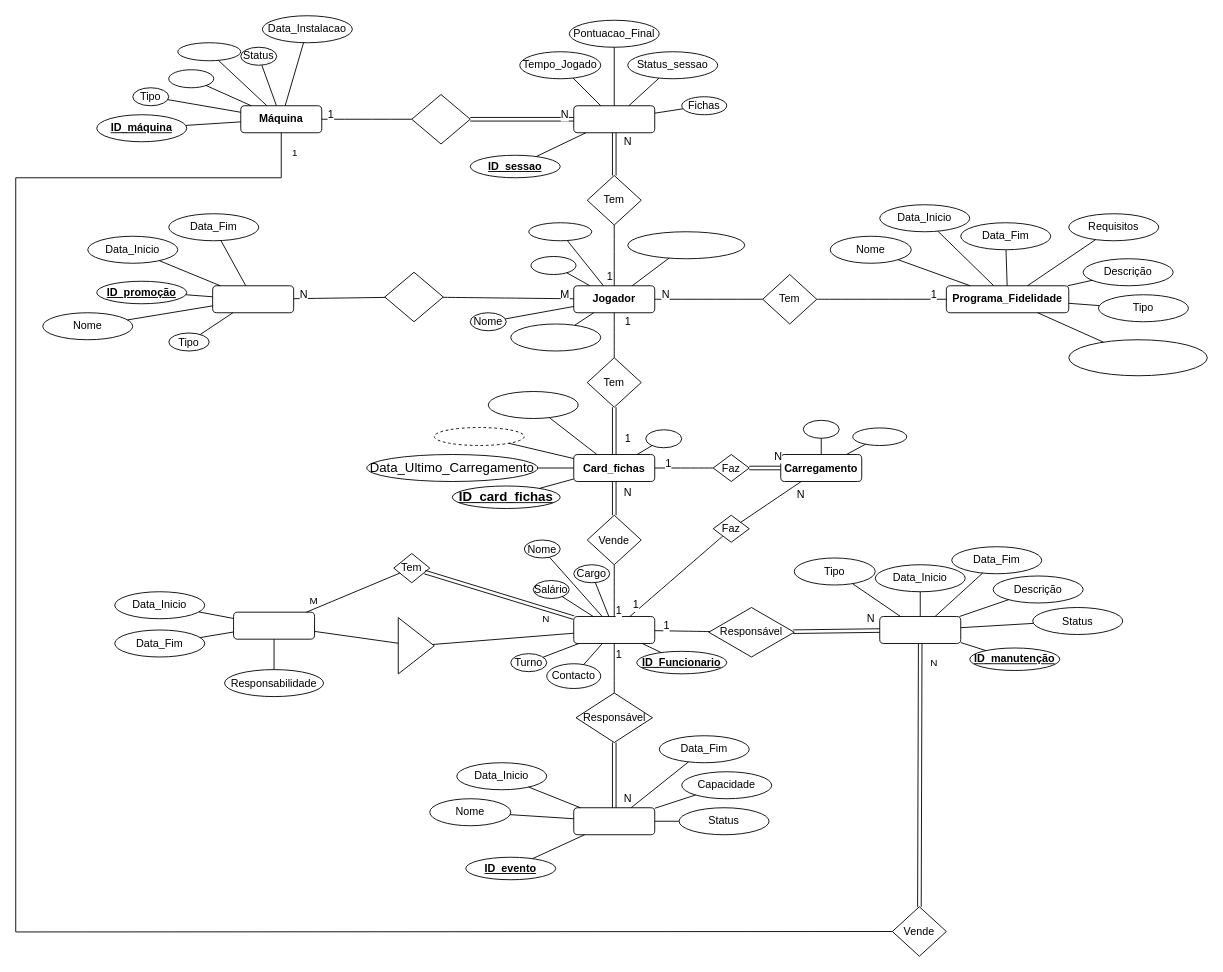
Some shapes in this 1223 by 972 pixel diagram are drawn without their labels. The shapes that lost their labels are listed below. From the top down, each one's centre as x and y in pixels, then its label:
At (x=209, y=51): "Fabricante".
At (x=191, y=78): "Modelo".
At (x=440, y=119): "Pertence".
At (x=614, y=119): "Sessao_Jogo".
At (x=560, y=231): "Telefone".
At (x=686, y=245): "Pontuacao_Total".
At (x=553, y=265): "Email".
At (x=253, y=299): "Promoção".
At (x=413, y=296): "Usufrui".
At (x=555, y=337): "ID_Jogador".
At (x=1137, y=357): "ID_p rograma_Fidelidade".
At (x=532, y=404): "Fichas_Usadas".
At (x=478, y=436): "Fichas_Atuais".
At (x=663, y=438): "Custo".
At (x=820, y=428): "Valor".
At (x=879, y=436): "Creditos".
At (x=274, y=625): "Gerente".
At (x=614, y=630): "Funcionário".
At (x=920, y=630): "Manutenção".
At (x=614, y=821): "Evento".
